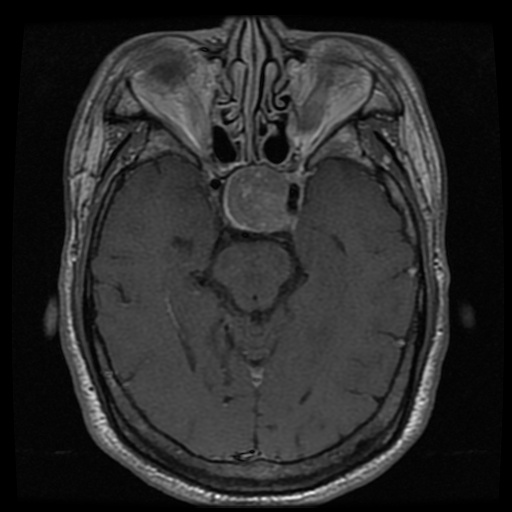pituitary: (227, 168, 287, 231)
